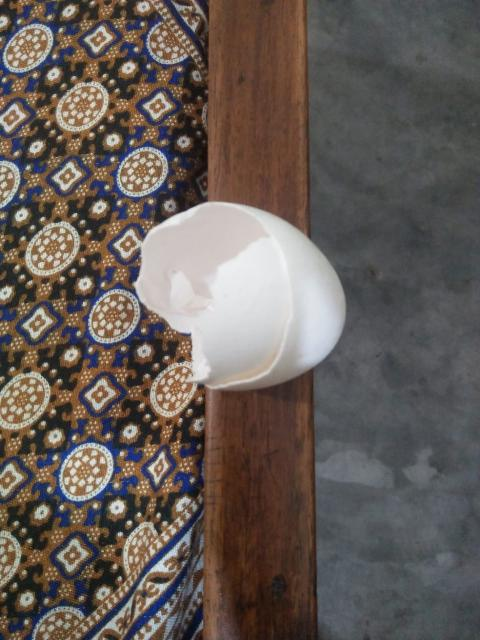Roto: (134, 202, 346, 391)
